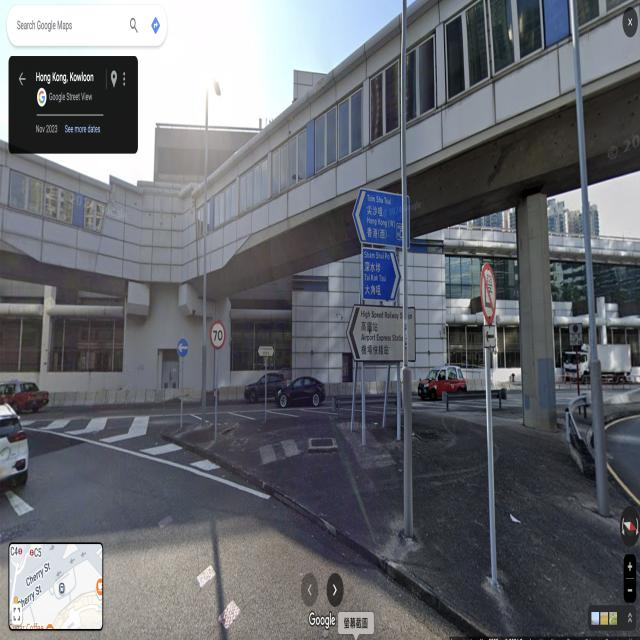Direction-Sign: (346, 304, 404, 361), (352, 189, 402, 247), (363, 248, 402, 300)
Order-Sign: (479, 262, 496, 321), (210, 320, 226, 349), (569, 323, 582, 346), (177, 336, 189, 358), (484, 326, 496, 348)
Street-Direction-Sign: (258, 346, 274, 356)
